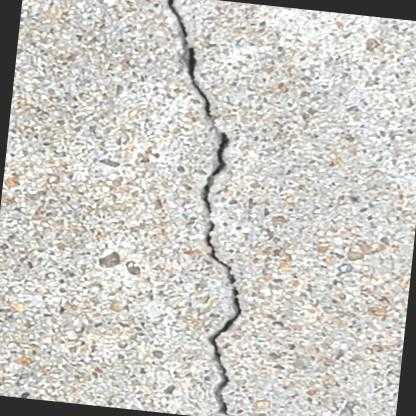crack: (166, 0, 241, 416)
